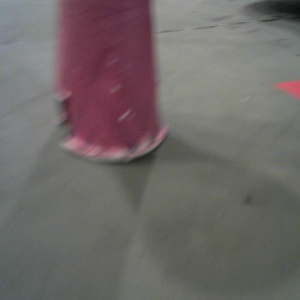right: (160, 1, 227, 52)
